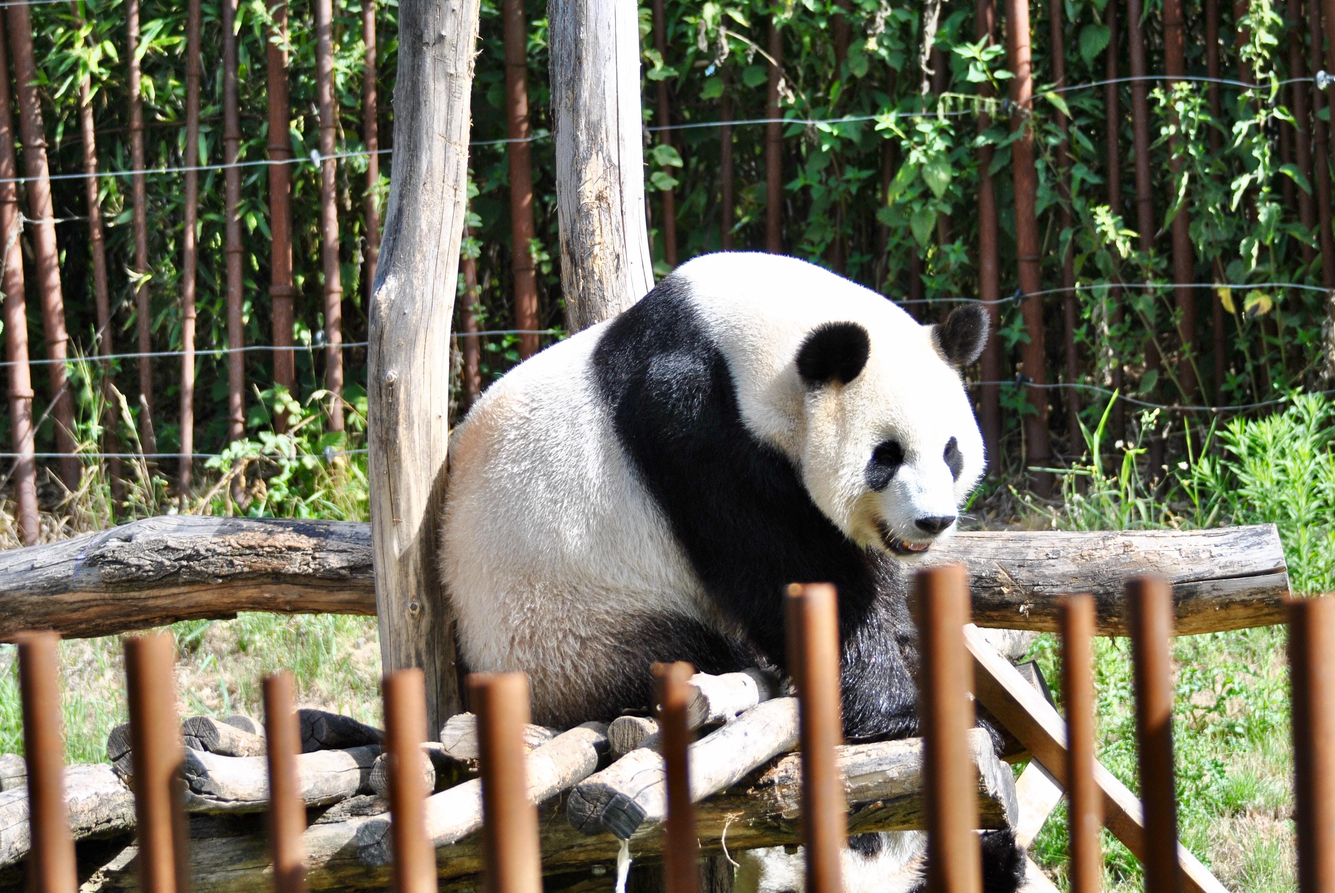panda: (426, 247, 999, 734)
